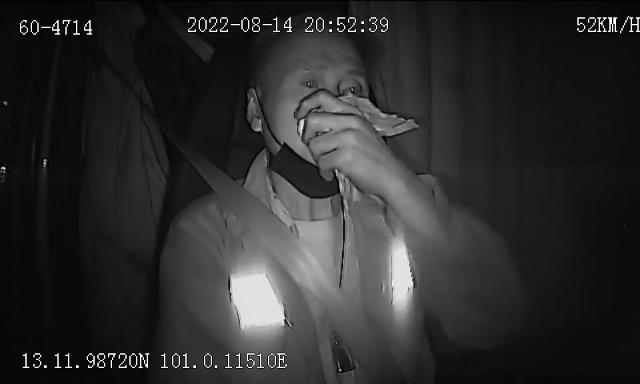SafeDriving: (335, 74, 369, 106)
Seatbelt: (172, 136, 402, 384)
